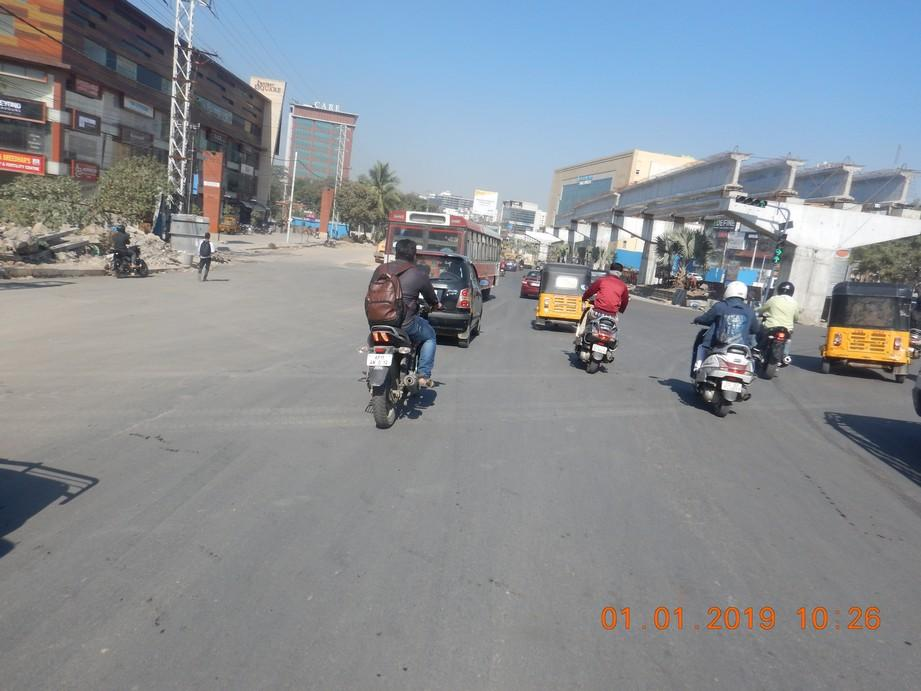plate: (367, 353, 392, 367), (721, 379, 743, 393)
